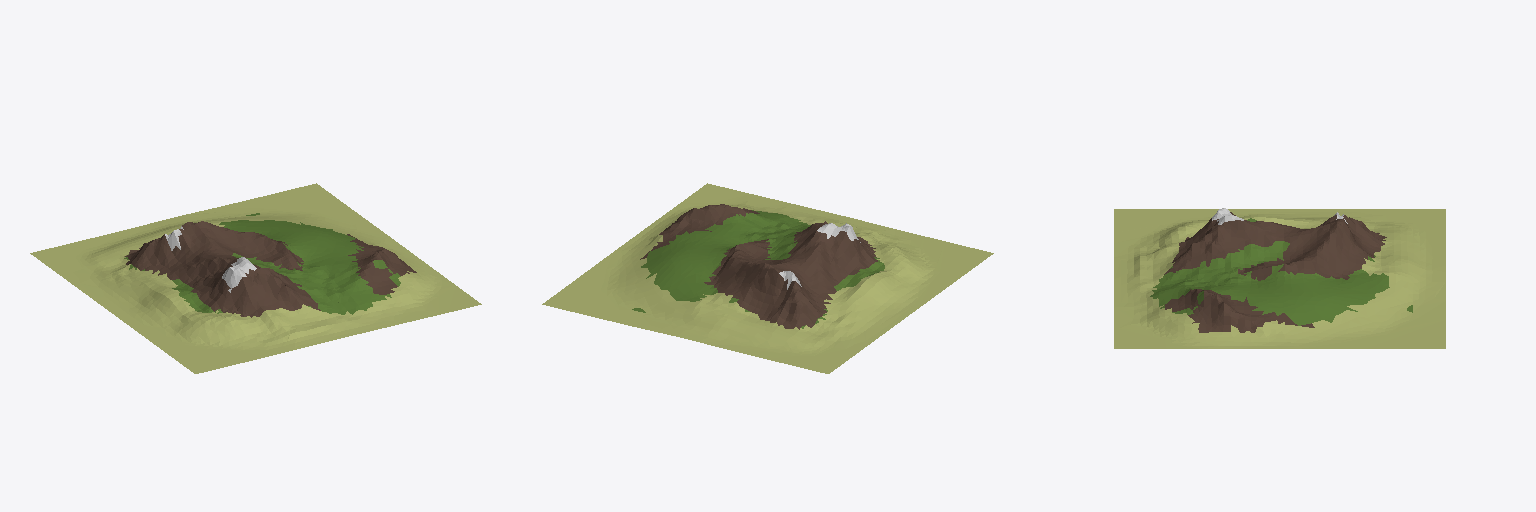
Rendered from island5a.obj.
3 views of the same model, side by side, from view 1: azimuth 30°, elevation 25°; view 2: azimuth 150°, elevation 25°; view 3: azimuth 270°, elevation 25° (orthographic).
Parts seen in each view (by area): view 1: Plane; view 2: Plane; view 3: Plane.
Part boxes in pixels (x1,y1,x2,y2): Plane: (30, 183, 481, 373); Plane: (542, 183, 993, 373); Plane: (1114, 208, 1445, 348).
Size of the model in its own units: 146 by 22.28 by 146.